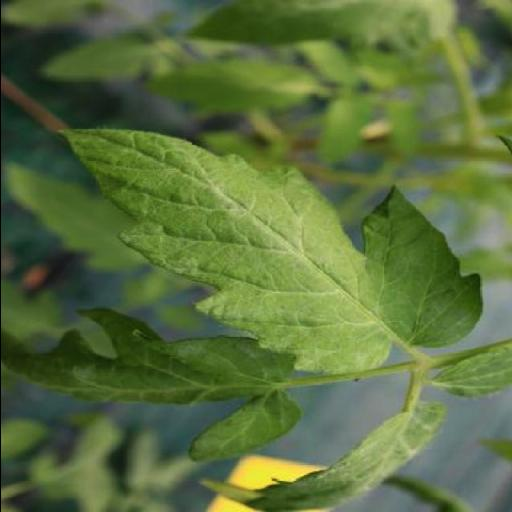Healthy: (54, 128, 480, 375)
